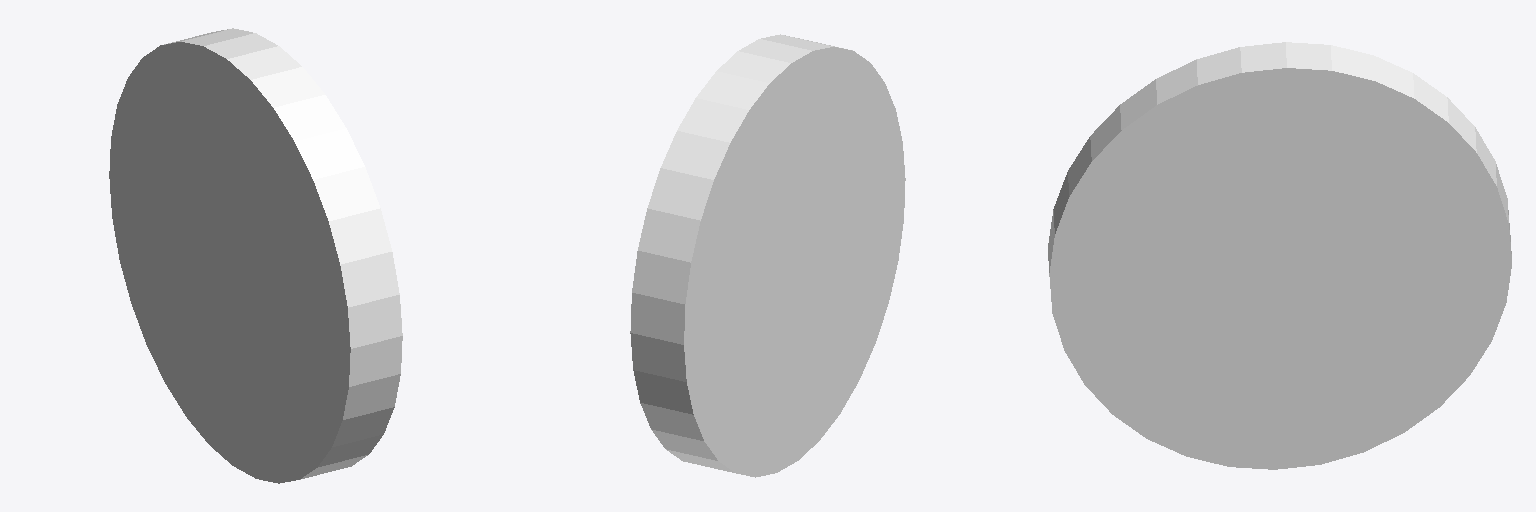
3 views of the same model, side by side, from view 1: azimuth 30°, elevation 25°; view 2: azimuth 150°, elevation 25°; view 3: azimuth 270°, elevation 25° (orthographic).
Parts seen in each view (by area): view 1: Сетка; view 2: Сетка; view 3: Сетка.
Boxes of the visible parts, box(x1,y1,x2,y2) form: Сетка: box(109, 28, 402, 483); Сетка: box(630, 34, 905, 477); Сетка: box(1048, 42, 1511, 469).
Bounding box in the file's own units: 1.48 × 9.1 × 9.52.